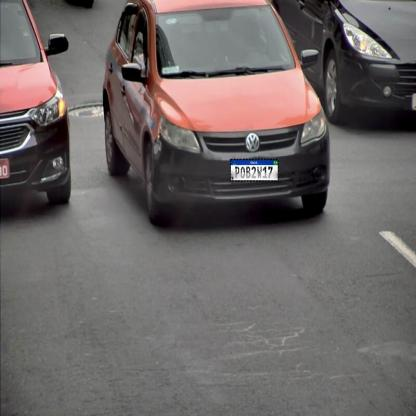PlacaM: (230, 158, 279, 182)
